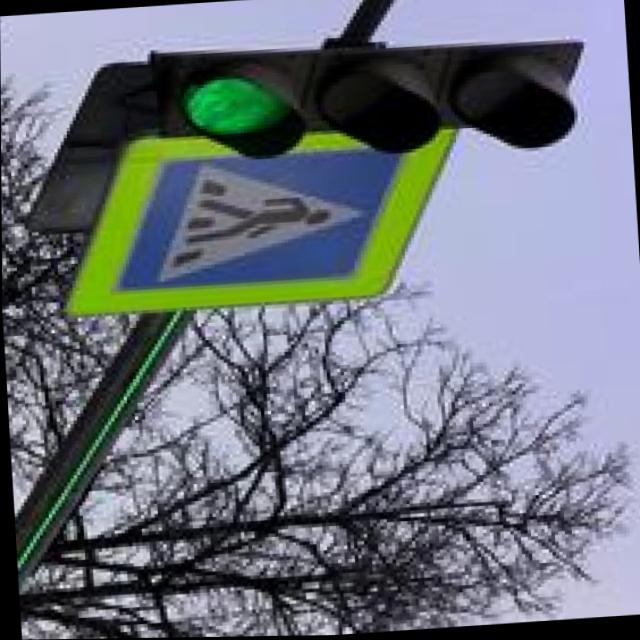green_light: (109, 55, 309, 170)
